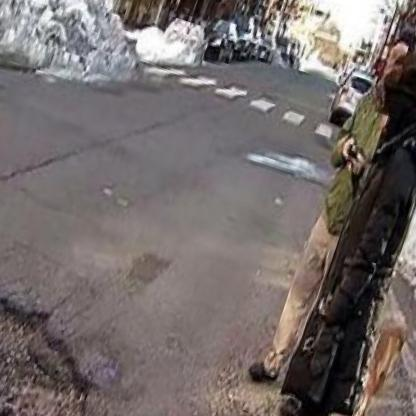pothole: (0, 272, 119, 416)
